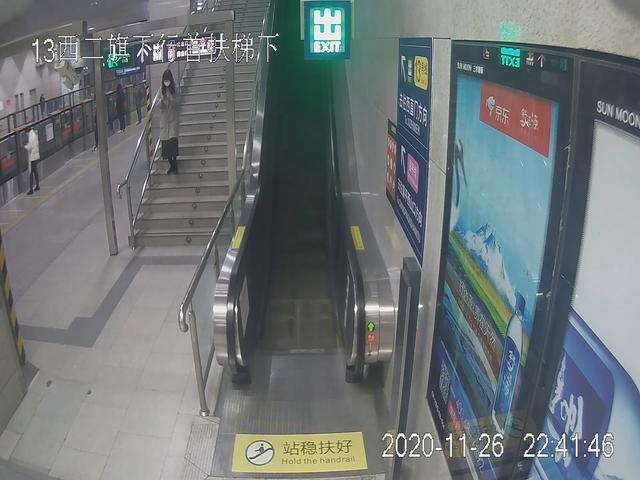person: (151, 67, 185, 173), (19, 125, 44, 195), (112, 84, 126, 134)
